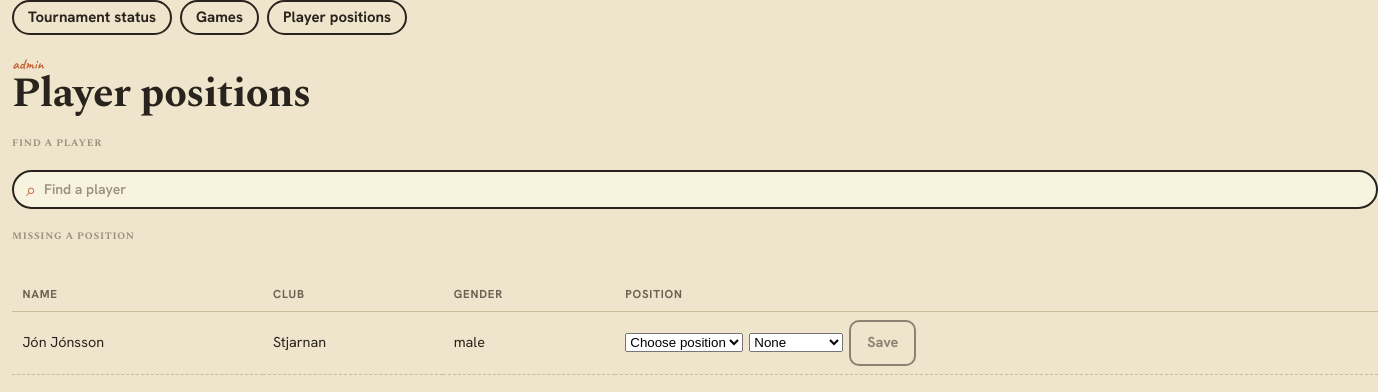
Test: shows an inline error if saving a position fails
Select "Left wing" in the dropdown named "Position" at (684, 343), box [625, 333, 743, 352]
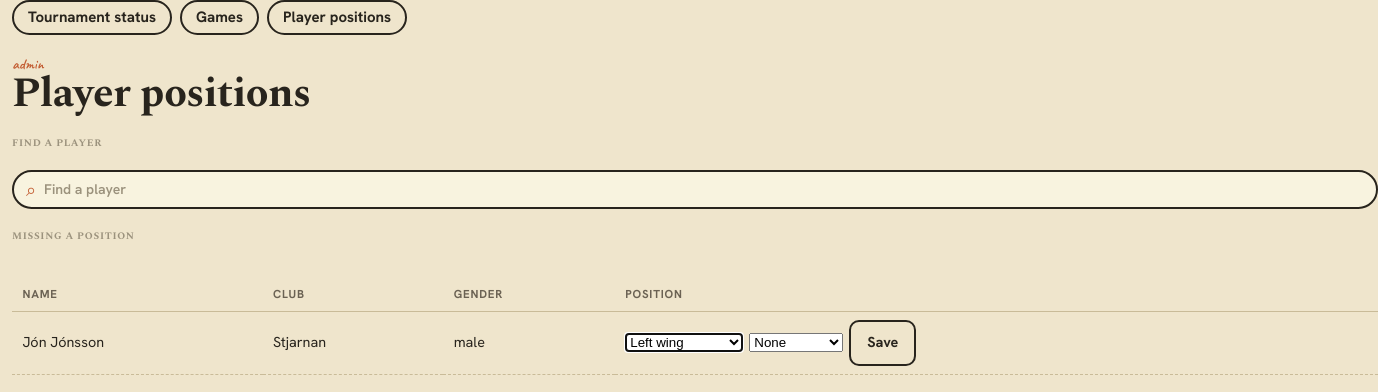
Click the button "Save" at (883, 343), box [849, 320, 916, 366]
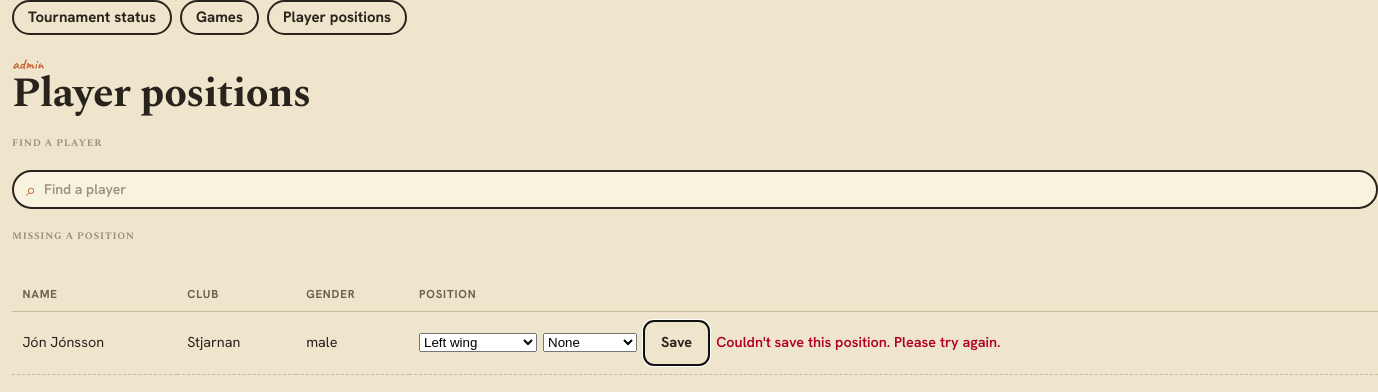
Expected: the text "Couldn't save this position. Please try again." is shown, [716, 332, 1000, 354]
